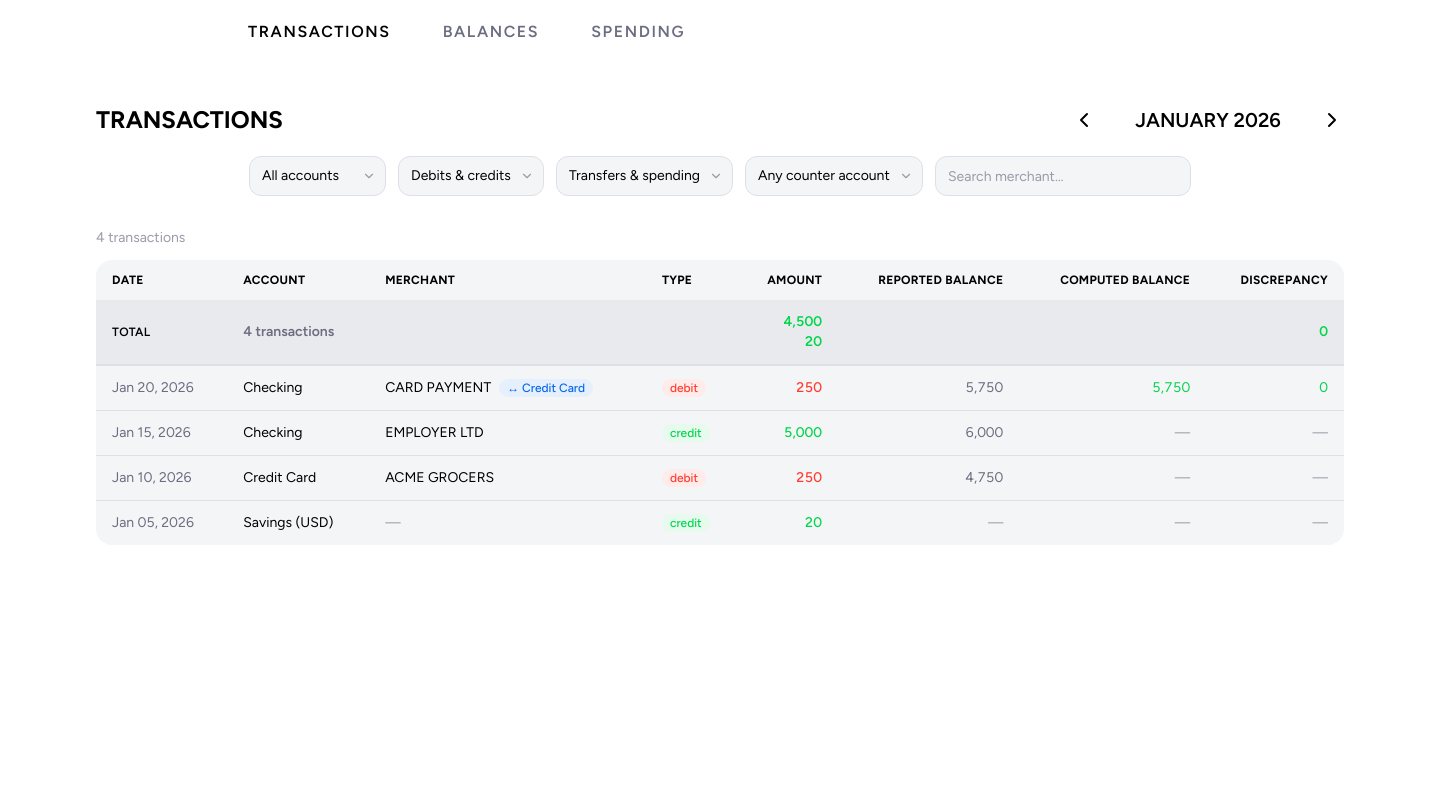
it: Transaction detail modal › opens on a row click with the record and the bank message
This screenshot has width=1440, height=810.
What coordinates should you click on to do the following:
click the row "Jan 15, 2026 Checking EMPLOYER LTD credit 5,000 6,000 — —"
I would click on:
 (720, 433)
Its box is [96,410,1344,456].
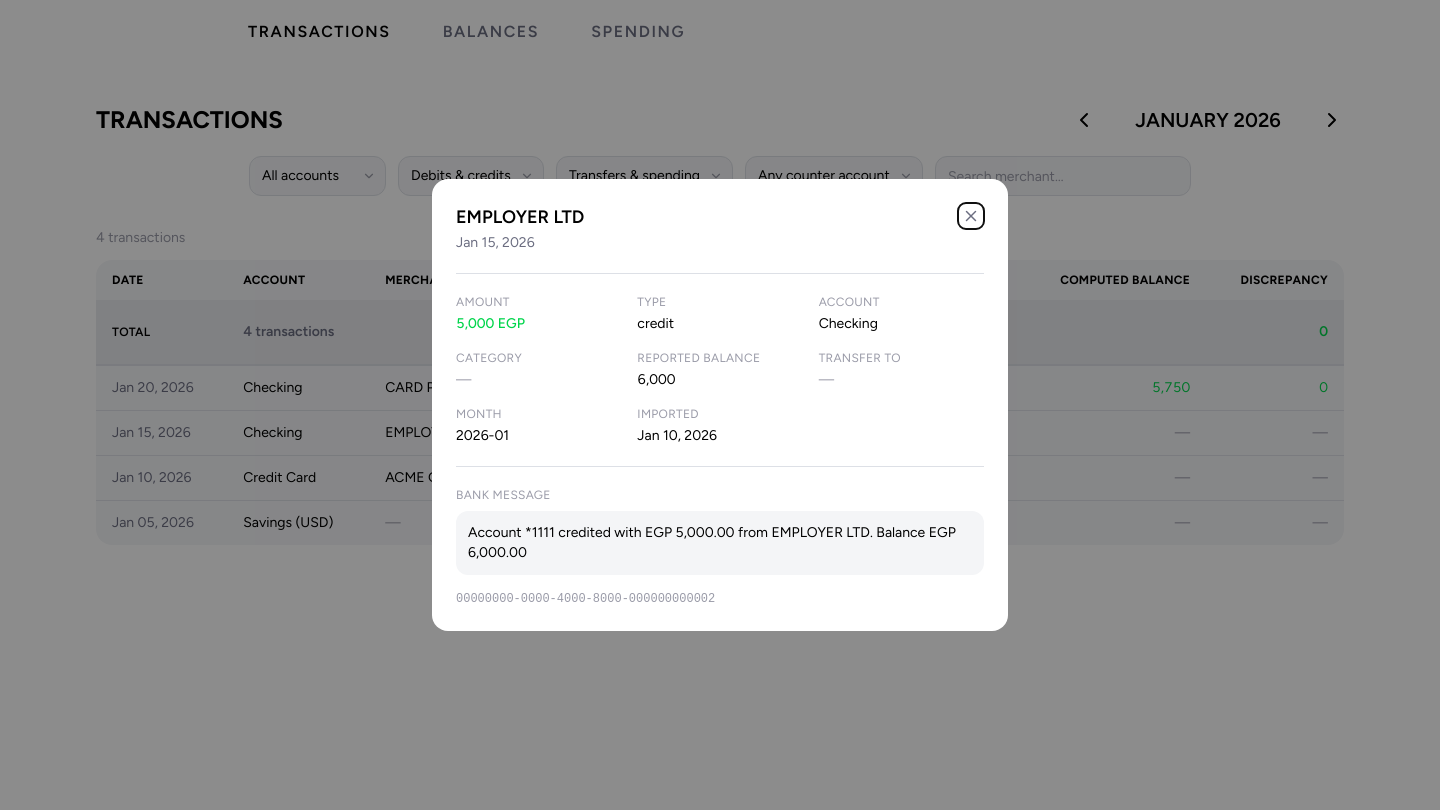
Now the heading "EMPLOYER LTD" is shown, box [456,203,584,231]
Now the text "Jan 15, 2026" is shown, box [456,234,535,251]
Now the text "Checking" is shown, box [819,315,878,332]
